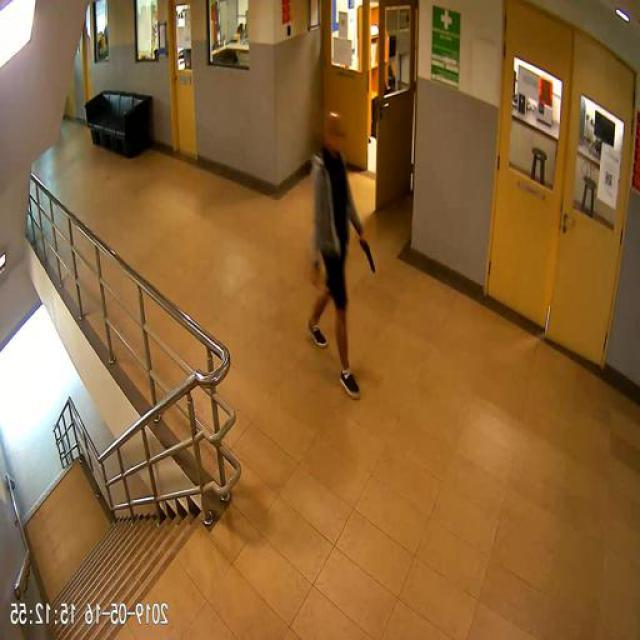Gun: (362, 236, 376, 272)
